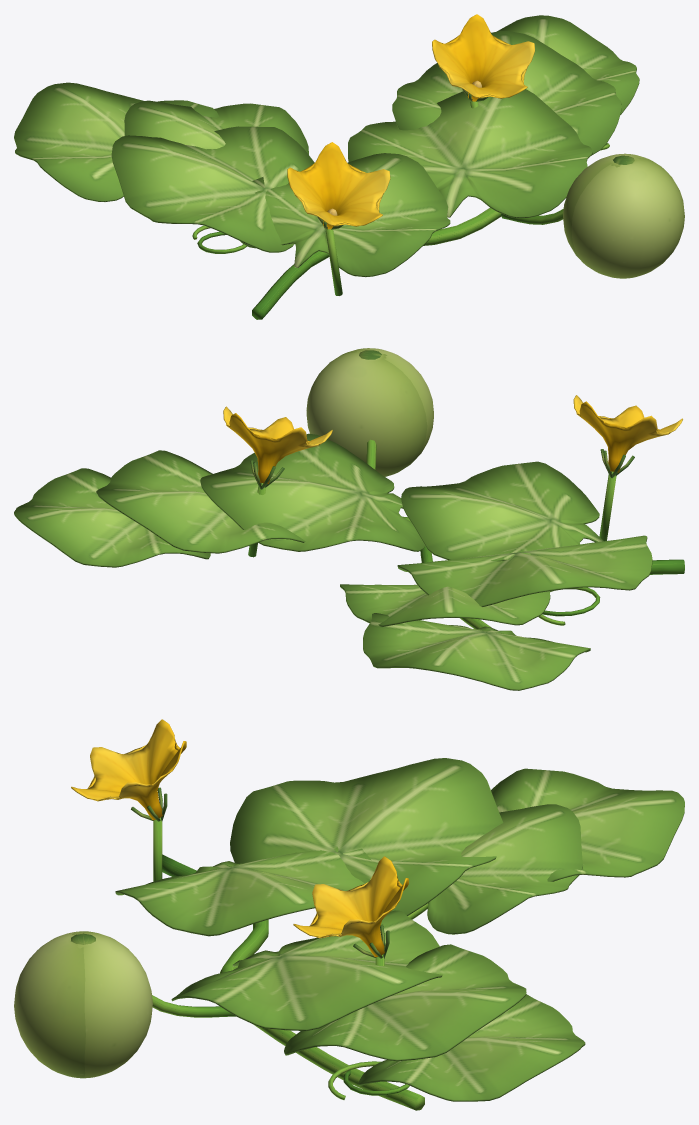
File: NP_Melon_Flowering.fbx
The picture shows the model from 3 angles, top to bottom: view 1: azimuth 30°, elevation 25°; view 2: azimuth 150°, elevation 25°; view 3: azimuth 270°, elevation 25°; orthographic projection. The views are drawn at different scales.
Visible parts, largest first — view 1: NP_Melon_Flowering; view 2: NP_Melon_Flowering; view 3: NP_Melon_Flowering.
Boxes of the visible parts, box(x1,y1,x2,y2) form: NP_Melon_Flowering: box(14, 14, 684, 319); NP_Melon_Flowering: box(14, 348, 684, 690); NP_Melon_Flowering: box(14, 719, 684, 1110).
Bounding box in the file's own units: 81.52 × 22.46 × 72.44.
